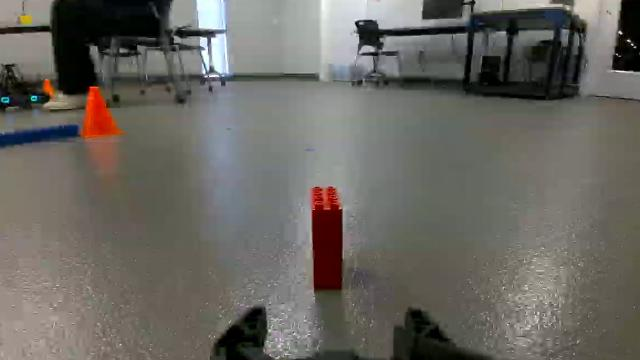lego: (303, 178, 357, 323)
